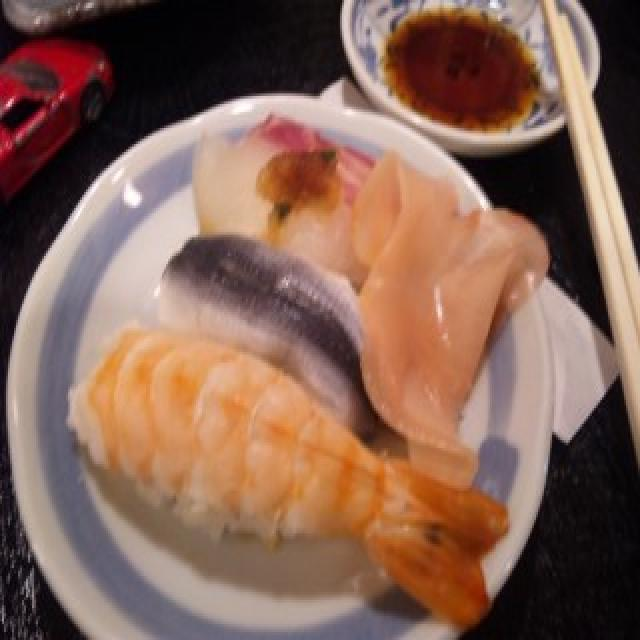寿司卷物: (8, 96, 544, 632)
